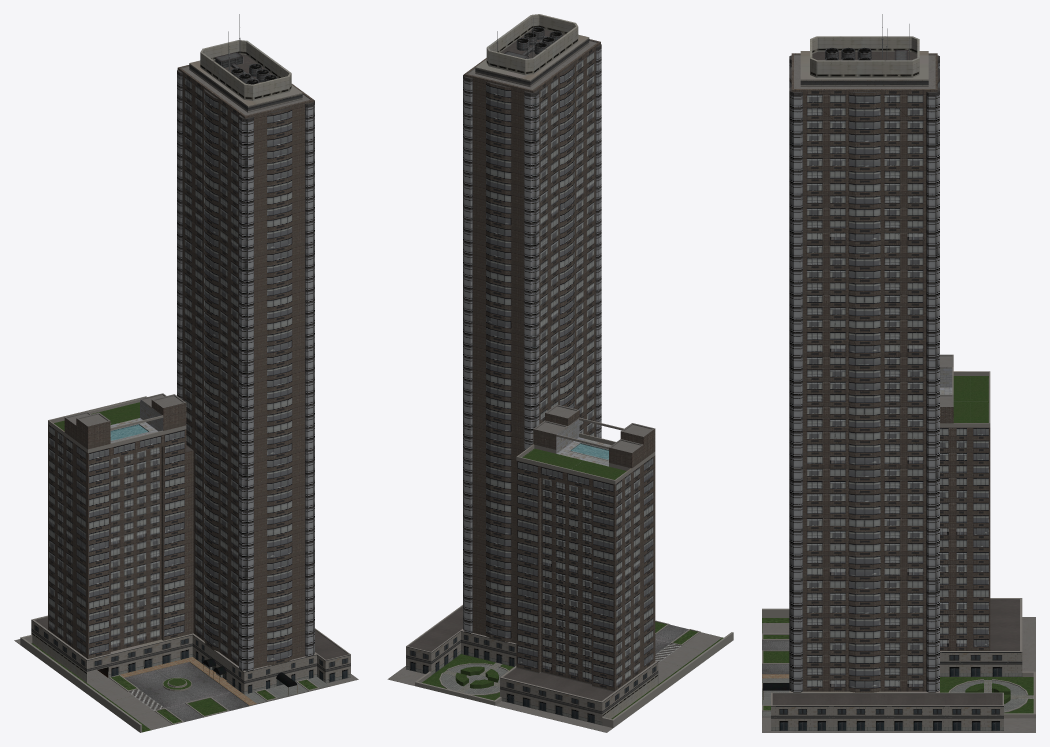
File: new_york_style_condominium.glb
The picture shows the model from 3 angles, left to right: view 1: azimuth 30°, elevation 25°; view 2: azimuth 150°, elevation 25°; view 3: azimuth 270°, elevation 25°; orthographic projection. The views are drawn at different scales.
Visible parts, largest first — view 1: hirise12; view 2: hirise12; view 3: hirise12.
Part boxes in pixels (x1,y1,x2,y2): hirise12: (14, 14, 358, 732); hirise12: (387, 14, 733, 732); hirise12: (762, 14, 1035, 732).
Bounding box in the file's own units: 5400 × 14835 × 5400.
1 material, 1 textured.
